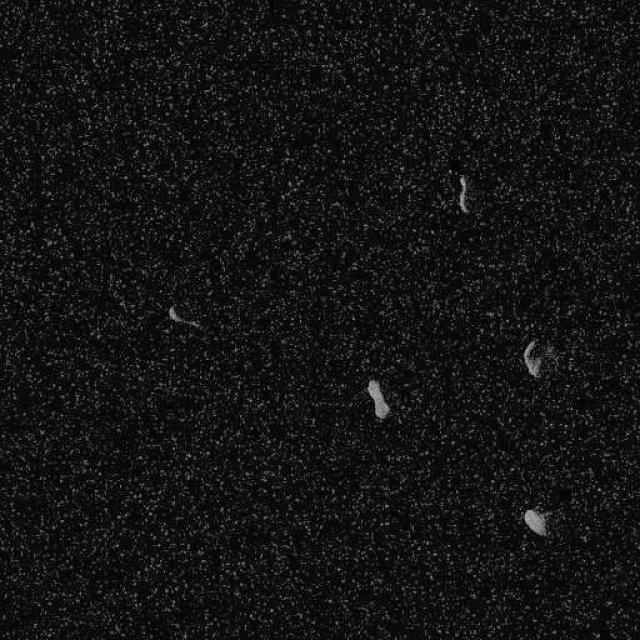D2: (365, 378, 390, 420), (166, 304, 200, 328), (522, 507, 548, 538), (522, 338, 542, 378), (456, 174, 470, 214)
